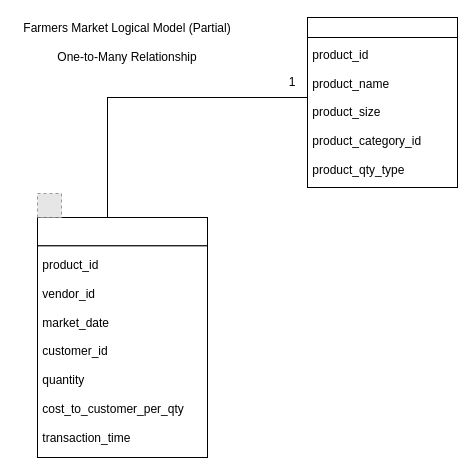
Image size: 475x475. Some labels were removed from this diagram. Grey dashed boxes stand in for pictures. The centre of each missing label's shape, as x and y in pixels:
"customer_purchases" belongs at point (122, 231).
"product" belongs at point (382, 27).
